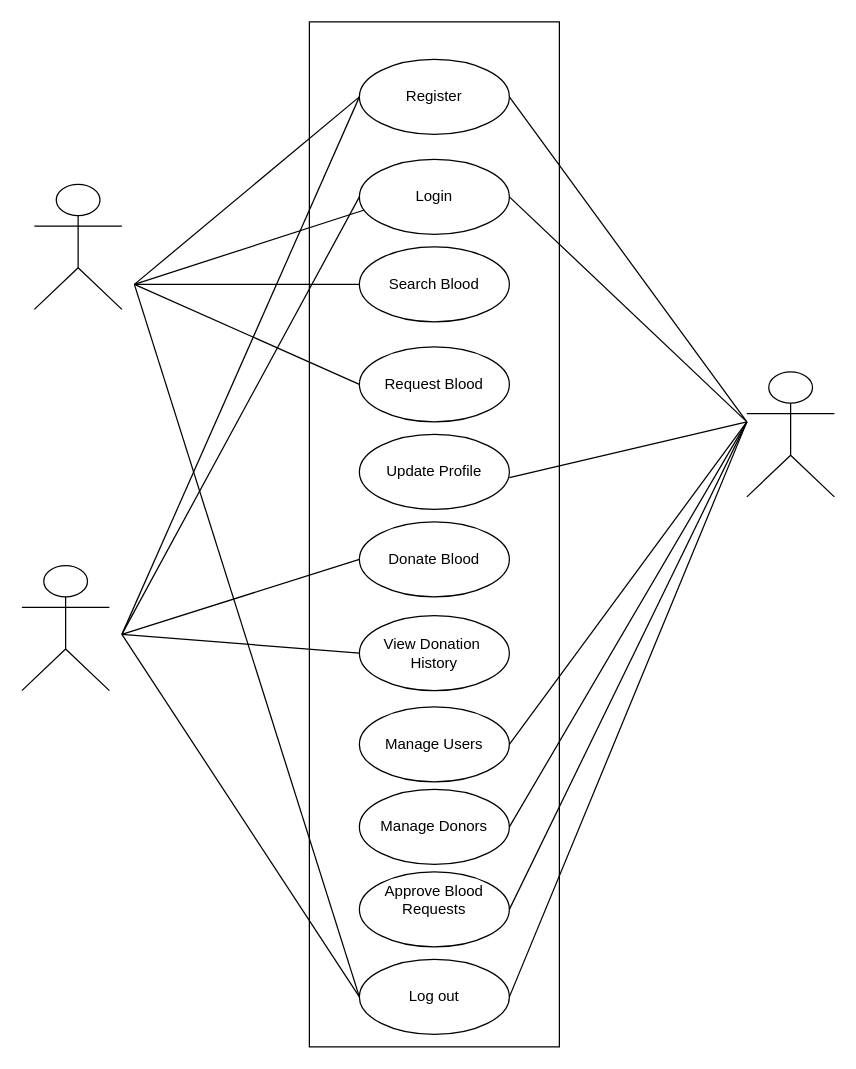
This 856x1069 diagram has some shape labels left out. The shapes that lost their labels are listed below. From the top down, each one's box as (x1, y1, x2, y2) in pixels, then its label:
(33, 183, 122, 309): Recipient
(746, 371, 834, 497): Admin
(21, 564, 109, 691): Donor
